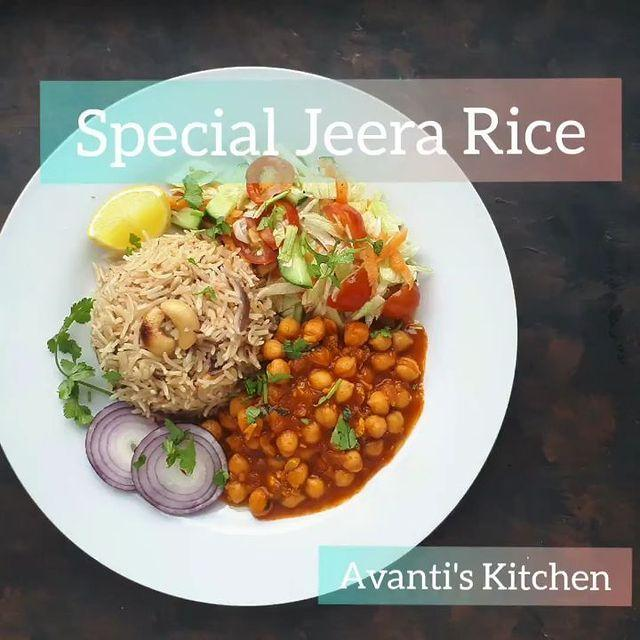Chole: (240, 329, 412, 503)
